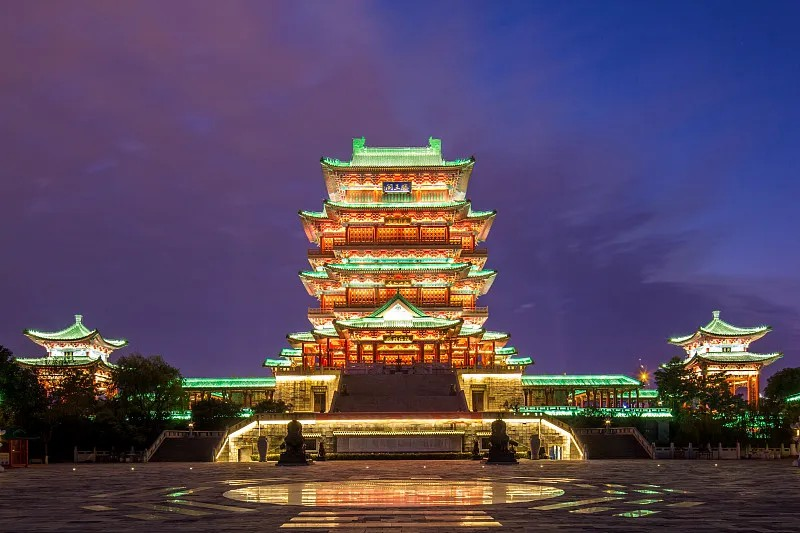Teng: (264, 137, 535, 373)
